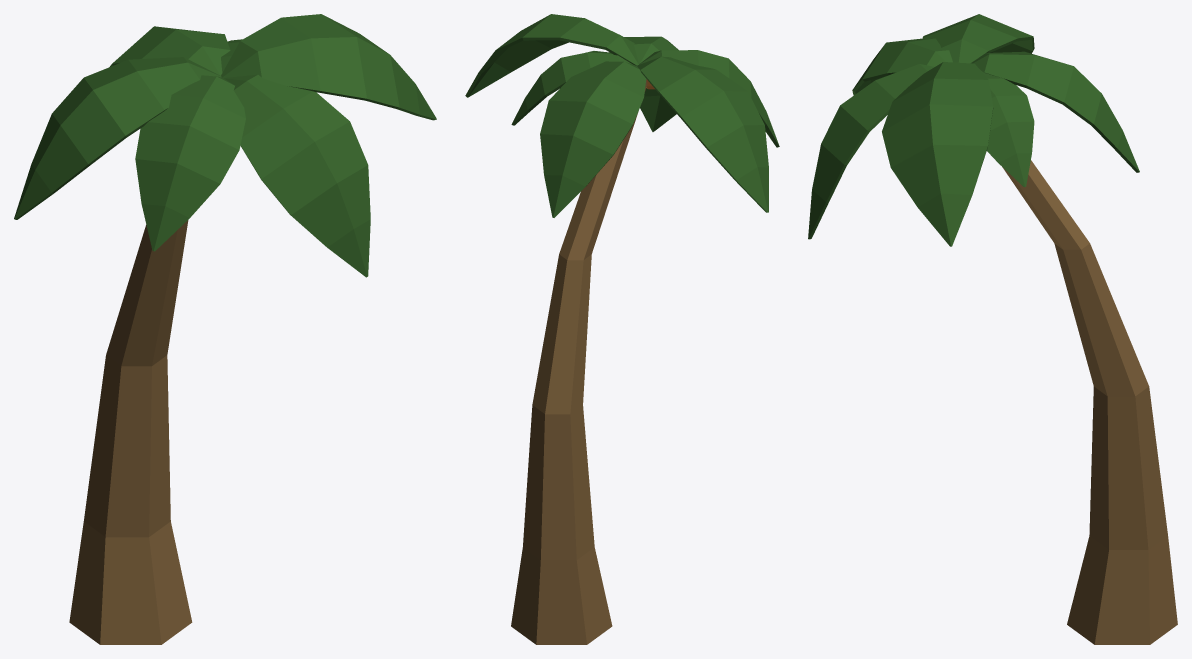
Rendered from palm.fbx.
3 renders of one model, left to right at view 1: azimuth 30°, elevation 25°; view 2: azimuth 150°, elevation 25°; view 3: azimuth 270°, elevation 25°, orthographic. The views are drawn at different scales.
Visible parts, largest first — view 1: Cylinder.002; view 2: Cylinder.002; view 3: Cylinder.002.
Boxes of the visible parts, left/top/right/bottom form: Cylinder.002: left=14, top=14, right=436, bottom=644; Cylinder.002: left=465, top=14, right=779, bottom=644; Cylinder.002: left=808, top=14, right=1177, bottom=644.
Bounding box in the file's own units: 569 × 885 × 512.
